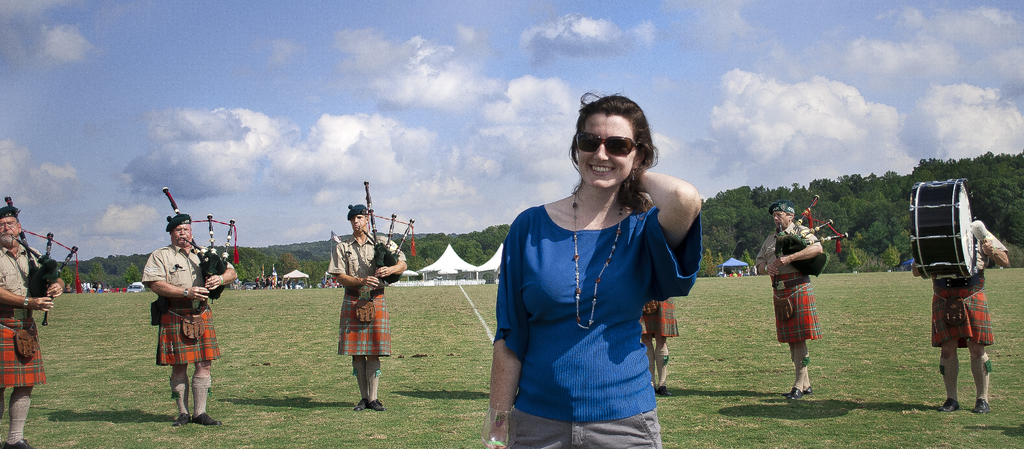Tree: (696, 142, 1023, 273), (216, 237, 327, 285), (397, 222, 508, 269), (60, 250, 149, 289)
